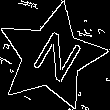N_SW: (21, 25, 82, 89)
